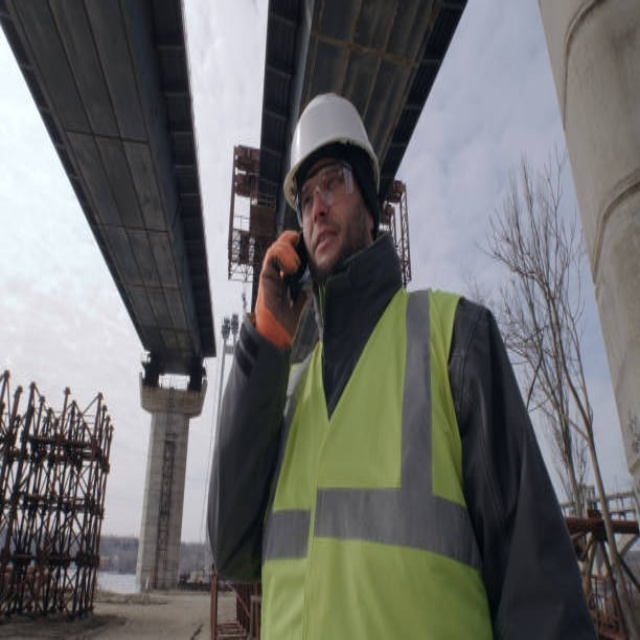Gafas: (296, 162, 356, 227)
Guantes: (256, 232, 309, 347)
Sin_mascara: (307, 221, 340, 264)
